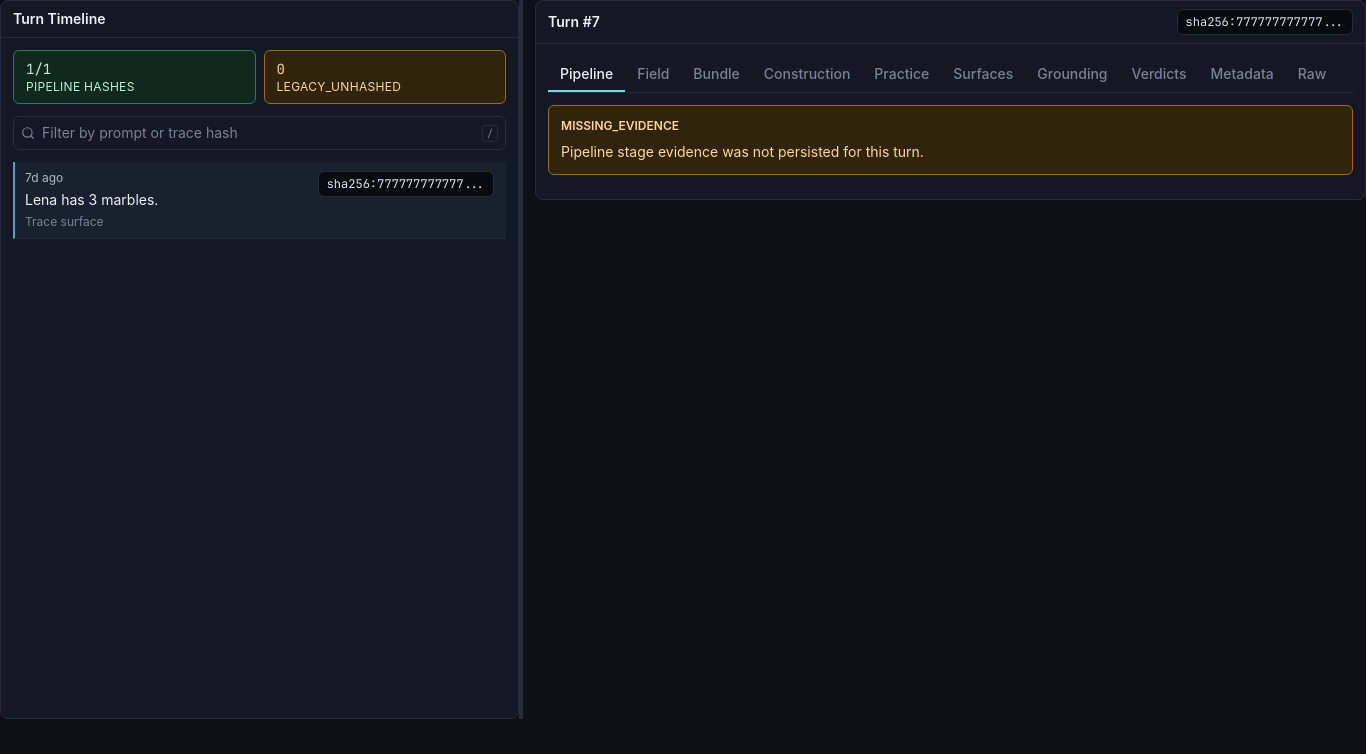
Test case: TraceRoute construction tab › renders recorded contract-assessment blockers without granting serving authority
Click the tab "Construction".
click(807, 74)  # box [752, 56, 862, 92]
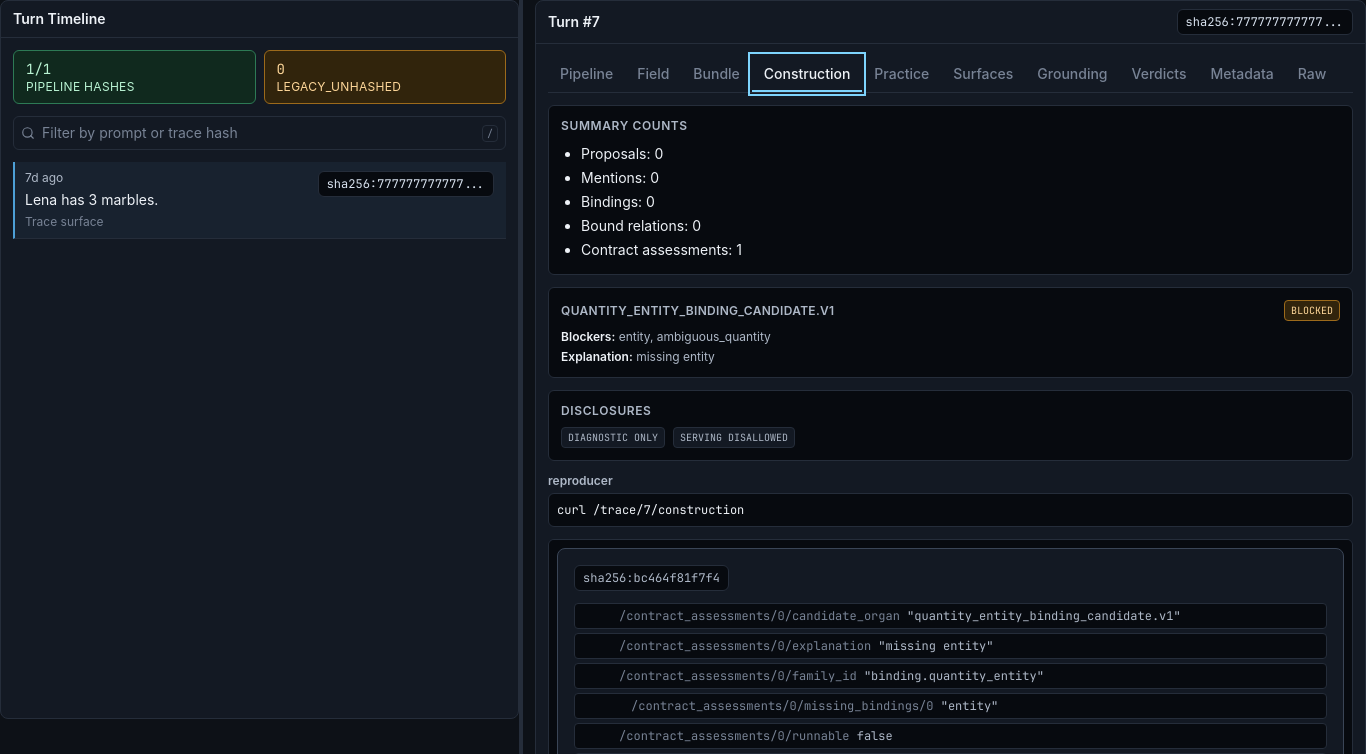
Result: the text "quantity_entity_binding_candidate.v1" is shown at [561, 302, 834, 318]
Result: the text "blocked" is shown at [1284, 300, 1340, 321]
Result: the text "Blockers: entity, ambiguous_quantity" is shown at [561, 329, 771, 344]
